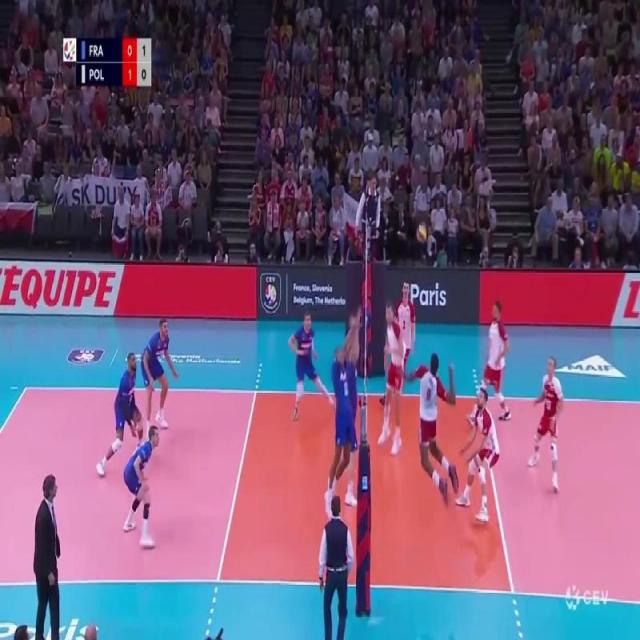volleyball: (416, 222, 427, 242)
